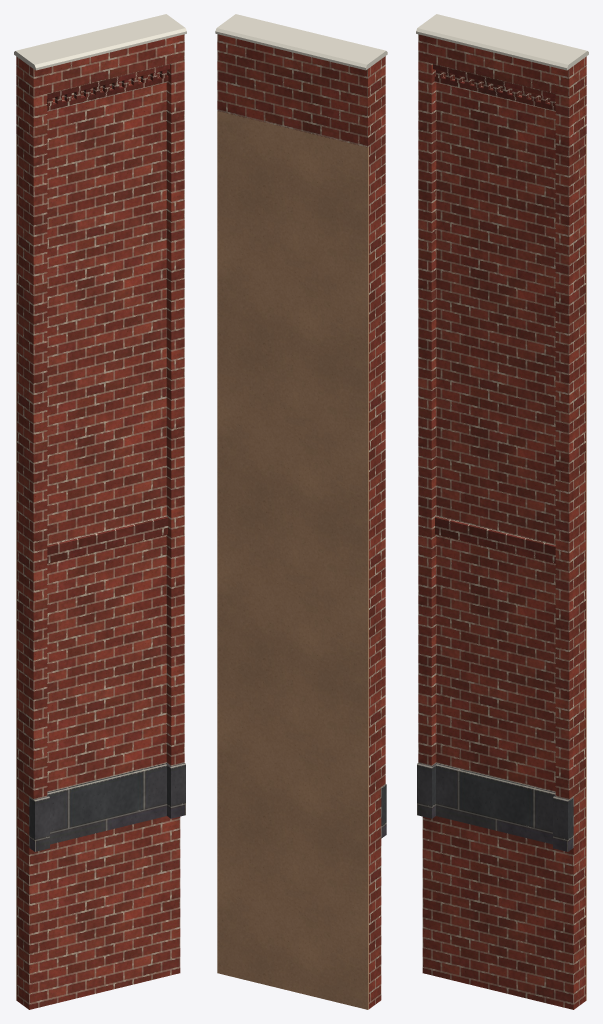
Rendered from a_wall_plain.glb.
3 renders of one model, left to right at view 1: azimuth 30°, elevation 25°; view 2: azimuth 150°, elevation 25°; view 3: azimuth 330°, elevation 25°, orthographic.
Visible parts, largest first — view 1: a_wall_plain_brick, a_wall_plain_plinth, a_wall_plain_brick2, a_wall_plain_coping, a_wall_plain_aplaster; view 2: a_wall_plain_aplaster, a_wall_plain_brick, a_wall_plain_coping; view 3: a_wall_plain_brick, a_wall_plain_plinth, a_wall_plain_brick2, a_wall_plain_coping, a_wall_plain_aplaster.
Part boxes in pixels (x1,y1,x2,y2): a_wall_plain_brick: (16, 34, 184, 1009); a_wall_plain_plinth: (29, 763, 185, 851); a_wall_plain_brick2: (47, 64, 169, 563); a_wall_plain_coping: (14, 14, 186, 70); a_wall_plain_aplaster: (16, 135, 16, 1000); a_wall_plain_aplaster: (217, 111, 368, 1009); a_wall_plain_brick: (217, 34, 385, 1008); a_wall_plain_coping: (215, 14, 387, 70); a_wall_plain_brick: (418, 34, 586, 1009); a_wall_plain_plinth: (417, 763, 573, 851); a_wall_plain_brick2: (433, 64, 555, 563); a_wall_plain_coping: (416, 14, 588, 70); a_wall_plain_aplaster: (586, 135, 586, 1000).
Bounding box in the file's own units: 2 × 12 × 0.5.
Materials: 5 (4 with a texture image).
